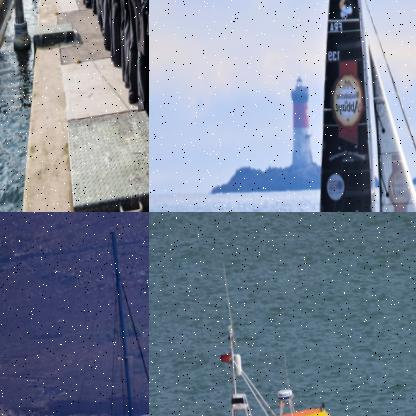Patrol Boat: (149, 248, 415, 415)
Sails Boat: (284, 0, 415, 211), (27, 225, 148, 415)
Submarine: (0, 0, 36, 203)
